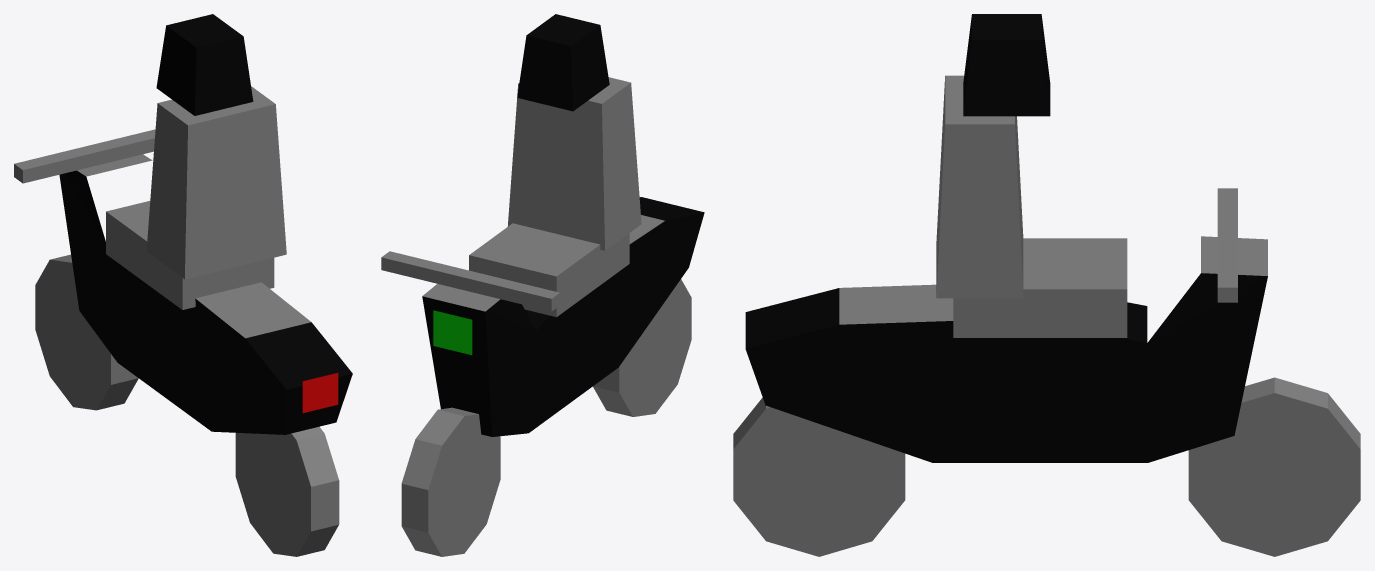
Rendered from veh_twowheeler.glb.
3 renders of one model, left to right at view 1: azimuth 30°, elevation 25°; view 2: azimuth 150°, elevation 25°; view 3: azimuth 270°, elevation 25°, orthographic. The views are drawn at different scales.
Visible parts, largest first — view 1: veh_twowheeler; view 2: veh_twowheeler; view 3: veh_twowheeler.
Part boxes in pixels (x1,y1,x2,y2): veh_twowheeler: (14, 14, 352, 556); veh_twowheeler: (381, 14, 704, 556); veh_twowheeler: (733, 14, 1360, 556).
Size of the model in its own units: 0.6999 by 1.72 by 1.87.
